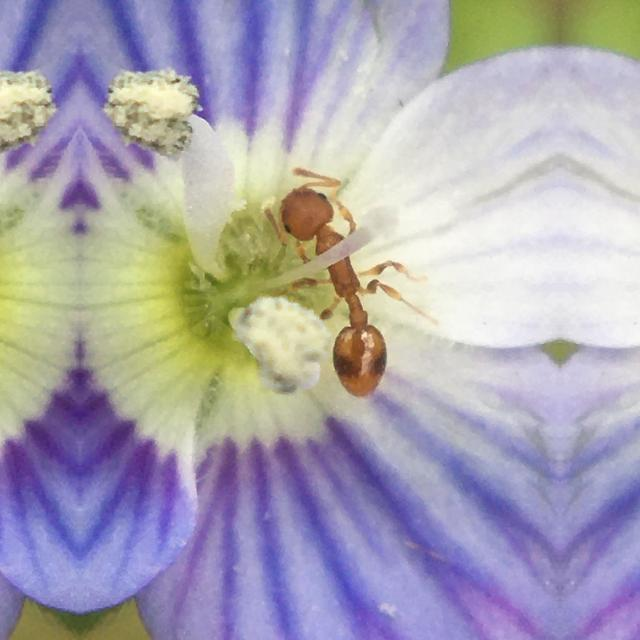Temnothorax: (272, 159, 414, 427)
